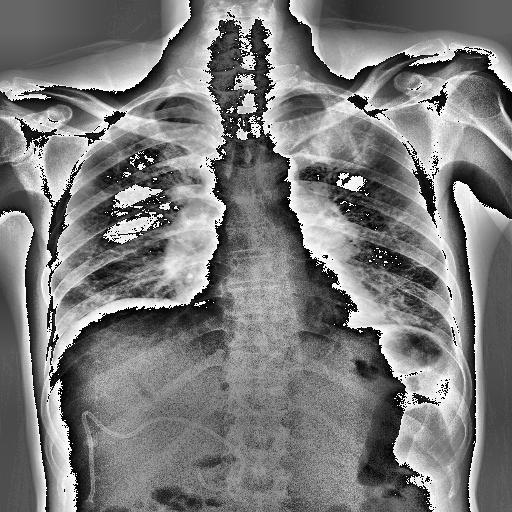7- Lung Opacity: (296, 106, 380, 170), (306, 106, 388, 169)
8- Nodule-Mass: (292, 106, 376, 173), (296, 106, 380, 170)
9- Other lesion: (200, 152, 227, 194)
